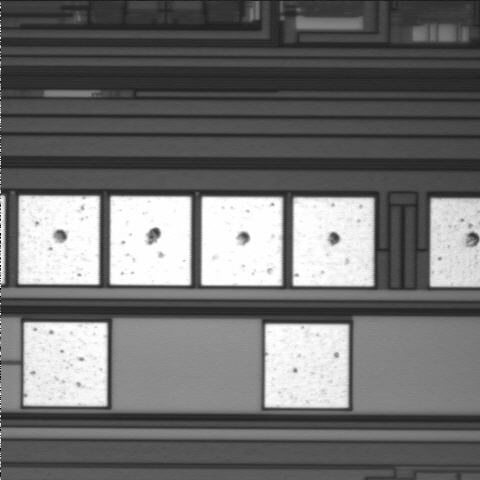pad: (201, 197, 283, 286), (19, 196, 100, 285), (110, 196, 191, 285), (293, 197, 374, 286), (24, 322, 108, 406), (265, 324, 349, 408)
